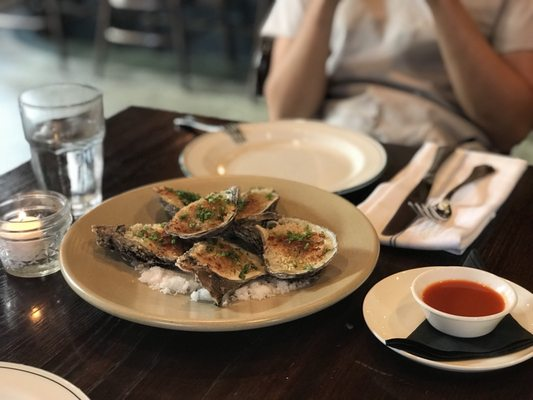soup: (175, 238, 267, 307)
sushi: (181, 119, 384, 194), (411, 266, 518, 339)
